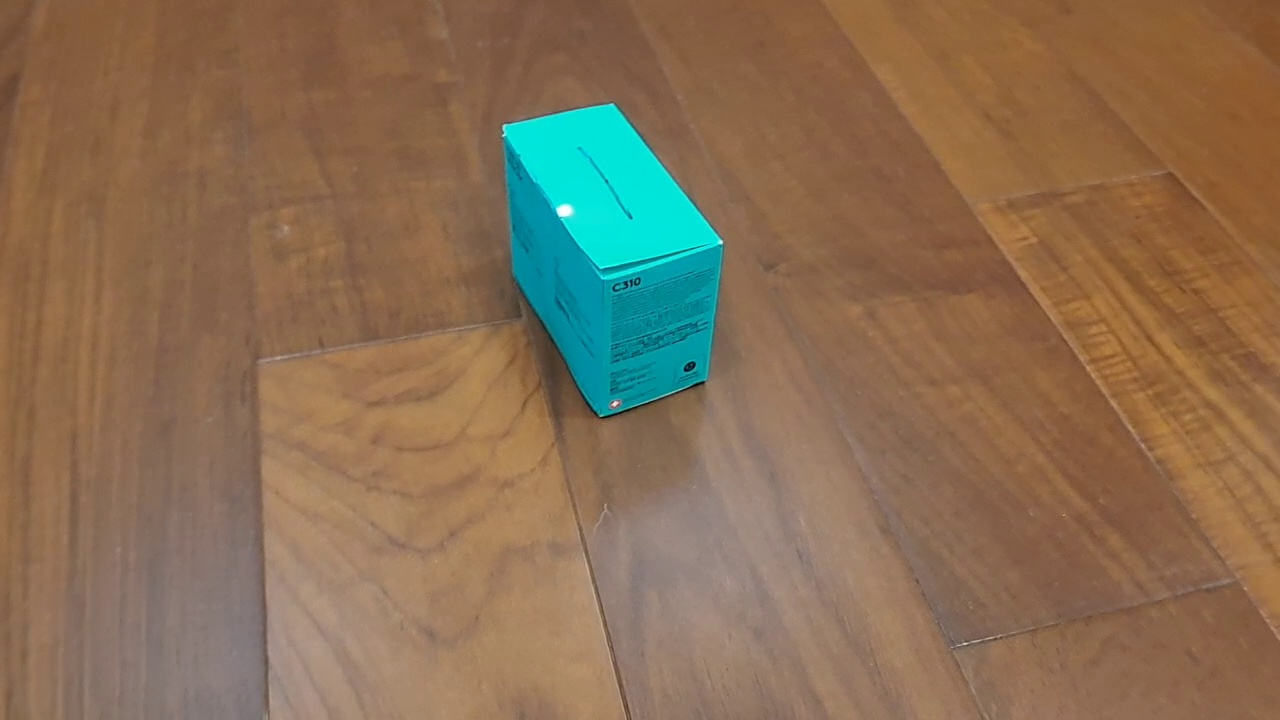webcam: (499, 100, 726, 421)
